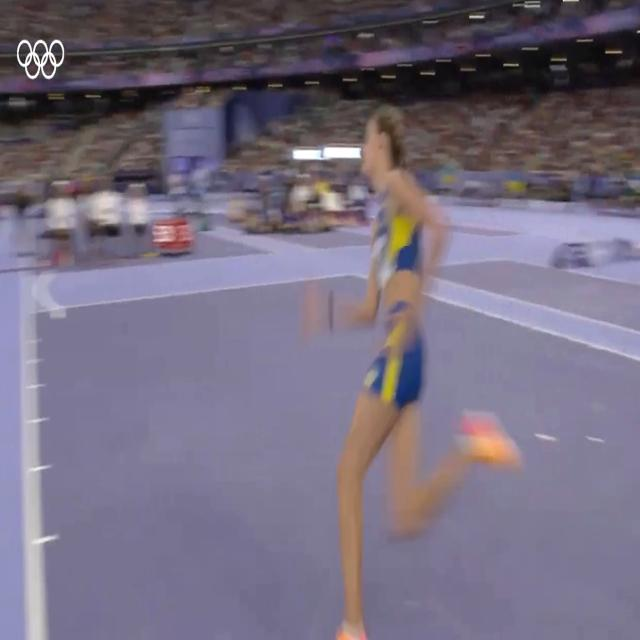run: (320, 102, 522, 640)
